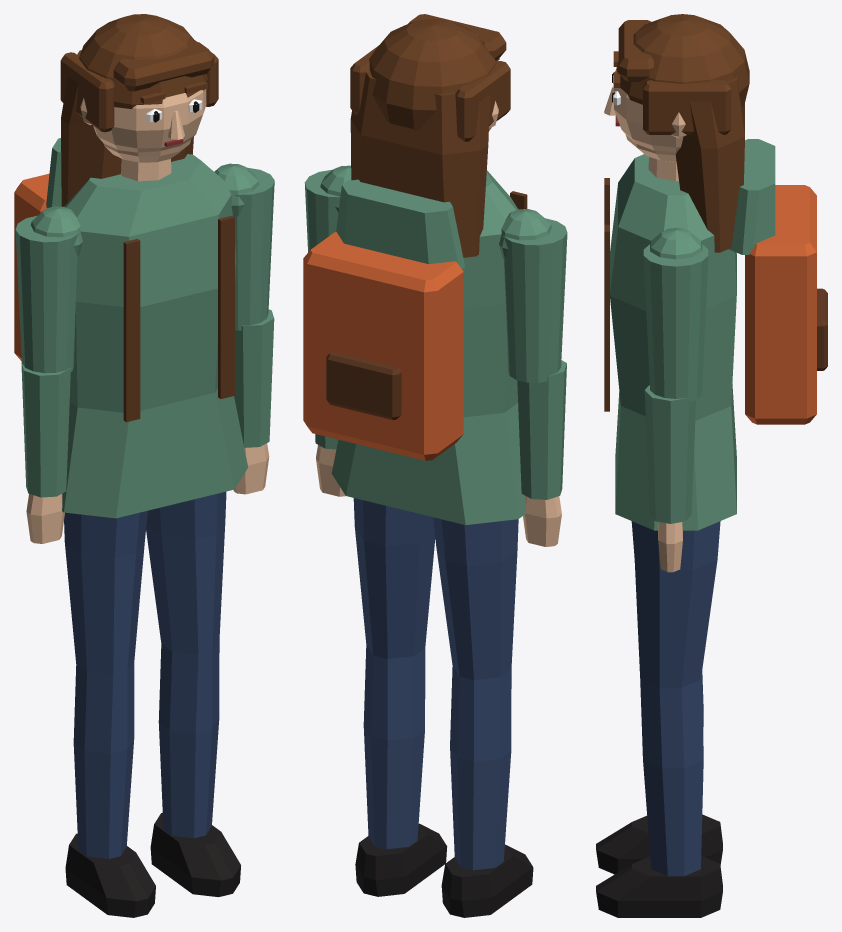
The model's file is customer_student.obj.
3 renders of one model, left to right at view 1: azimuth 30°, elevation 25°; view 2: azimuth 150°, elevation 25°; view 3: azimuth 270°, elevation 25°, orthographic.
Visible parts, largest first — view 1: customer_student; view 2: customer_student; view 3: customer_student.
Boxes of the visible parts, x1,y1,x2,y2 form: customer_student: (14,14,274,917); customer_student: (303,14,567,917); customer_student: (596,14,827,917).
Bounding box in the file's own units: 0.53 × 1.73 × 0.42.
